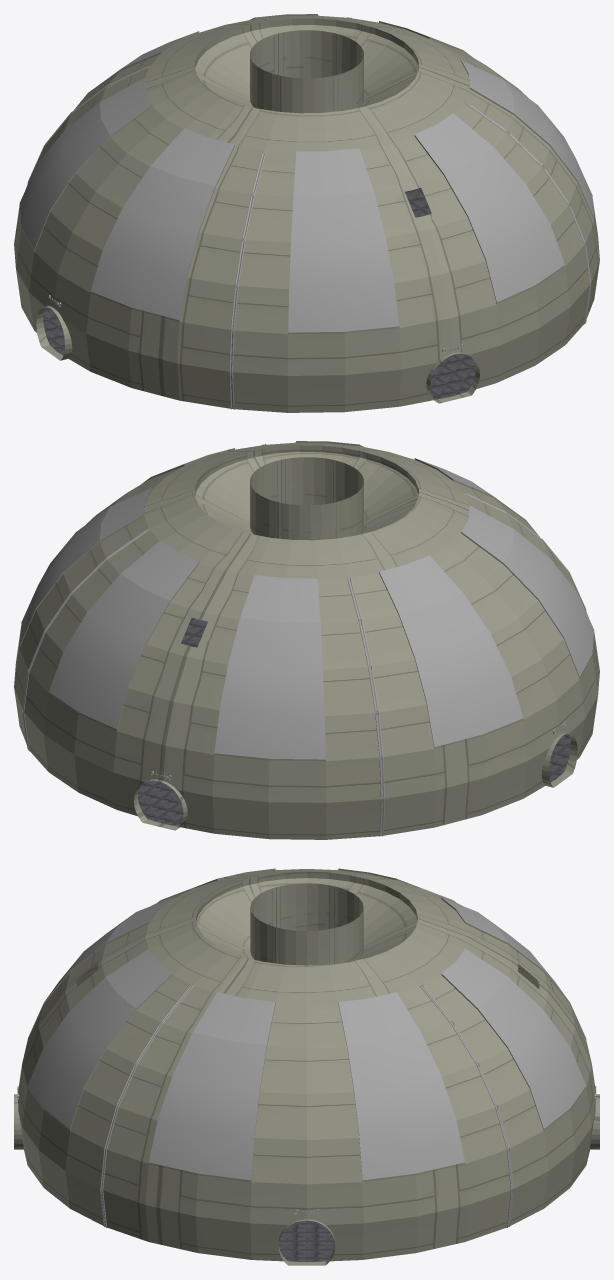
File: Cupola2.fbx
3 renders of one model, top to bottom at view 1: azimuth 30°, elevation 25°; view 2: azimuth 150°, elevation 25°; view 3: azimuth 270°, elevation 25°, orthographic.
Visible parts, largest first — view 1: Arco, Vetri_001, Pavimento, Archi; view 2: Arco, Vetri_001, Pavimento, Archi; view 3: Arco, Vetri_001, Archi, Pavimento.
Part boxes in pixels (x1,y1,x2,y2): Arco: (14,14,599,412); Vetri_001: (19,31,594,332); Pavimento: (43,187,475,399); Archi: (27,17,591,409); Arco: (14,441,599,839); Vetri_001: (19,458,594,759); Pavimento: (138,617,570,826); Archi: (22,444,586,836); Arco: (14,868,599,1265); Vetri_001: (27,898,586,1180); Archi: (100,888,513,1227); Pavimento: (278,1220,334,1261).
Bounding box in the file's own units: 87.57 × 38.83 × 87.62.
Materials: 36 (14 with a texture image).
